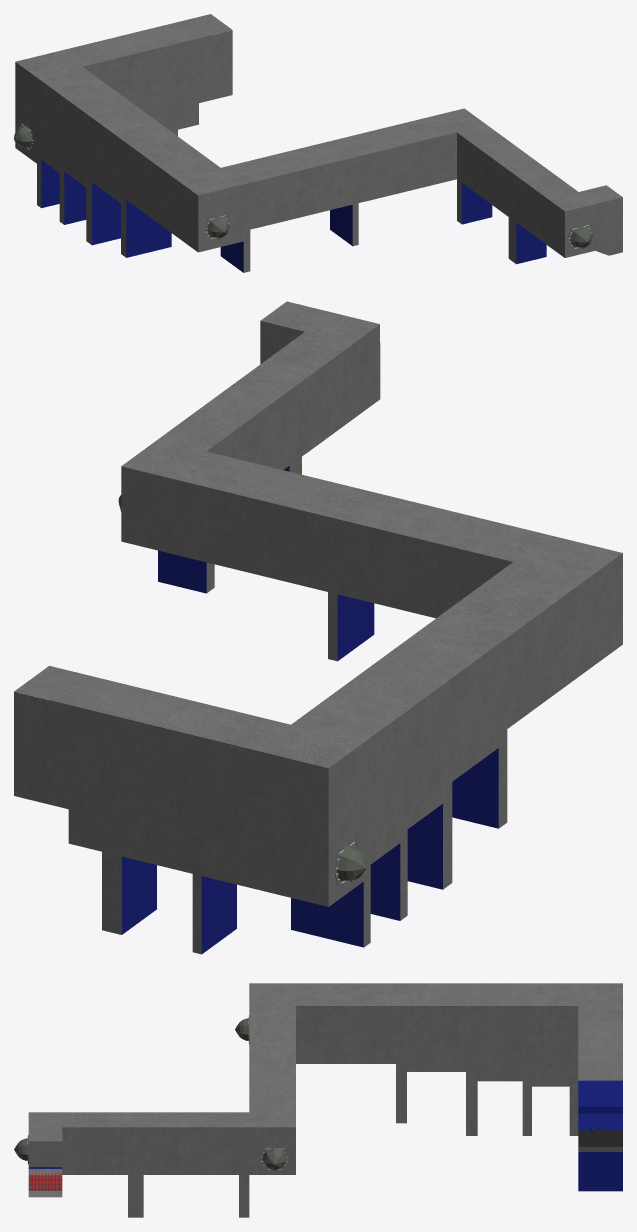
File: Room_15 1.fbx
3 views of the same model, one above another, from view 1: azimuth 30°, elevation 25°; view 2: azimuth 150°, elevation 25°; view 3: azimuth 270°, elevation 25° (orthographic). The views are drawn at different scales.
Parts seen in each view (by area): view 1: Cube.092, Plane, Cube.095, Circle.002, Circle.004, Circle.005; view 2: Cube.092, Plane, Cube.095, Circle.005; view 3: Cube.092, Plane, Cube.095, MyLadder.013, Circle.003.
Boxes of the visible parts, x1,y1,x2,y2 form: Cube.092: (15, 30, 622, 272); Plane: (15, 14, 622, 211); Cube.095: (41, 160, 546, 272); Circle.002: (567, 223, 593, 250); Circle.004: (204, 213, 230, 239); Circle.005: (14, 123, 33, 149); Cube.092: (14, 321, 622, 954); Plane: (14, 301, 622, 768); Cube.095: (122, 448, 498, 954); Circle.005: (334, 840, 366, 884); Cube.092: (28, 1006, 578, 1217); Plane: (28, 983, 622, 1166); Cube.095: (29, 1080, 622, 1191); MyLadder.013: (29, 1173, 62, 1190); Circle.003: (260, 1147, 288, 1170).
Size of the model in its own units: 9629 by 3778 by 15104.
8 materials, 7 textured.
